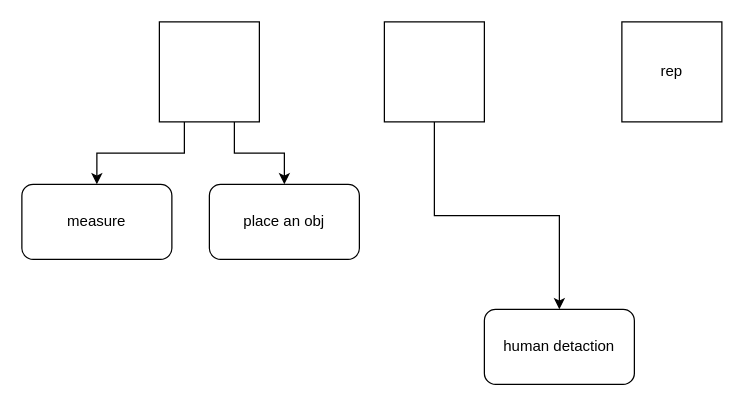
The diagram is 744 pixels wide and 406 high, and some of its shapes have lost their labels. Each missing label, with the centre of its shape:
AR: the point at 208,71
ML: the point at 433,71
